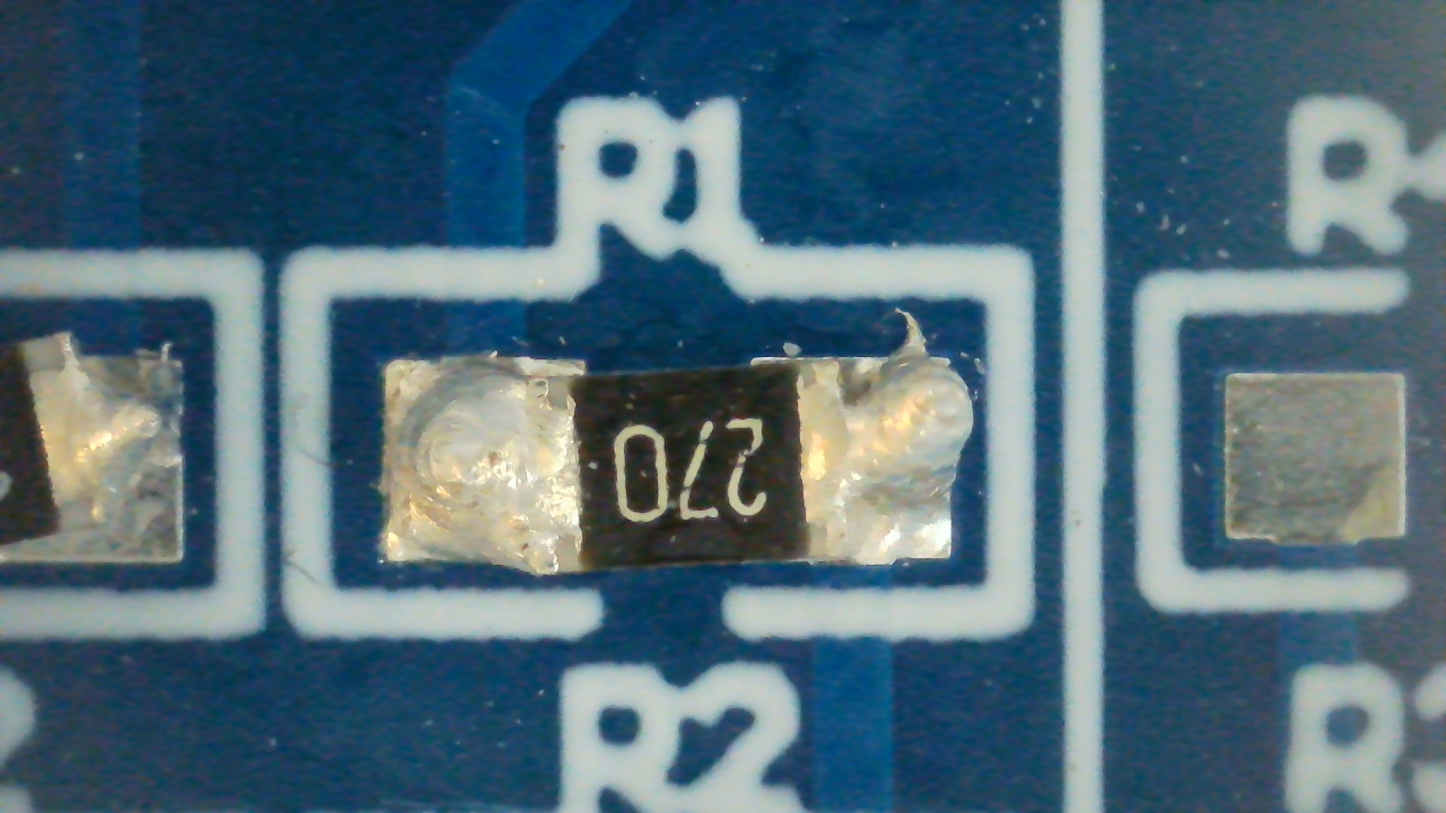NG: (385, 310, 975, 575)
